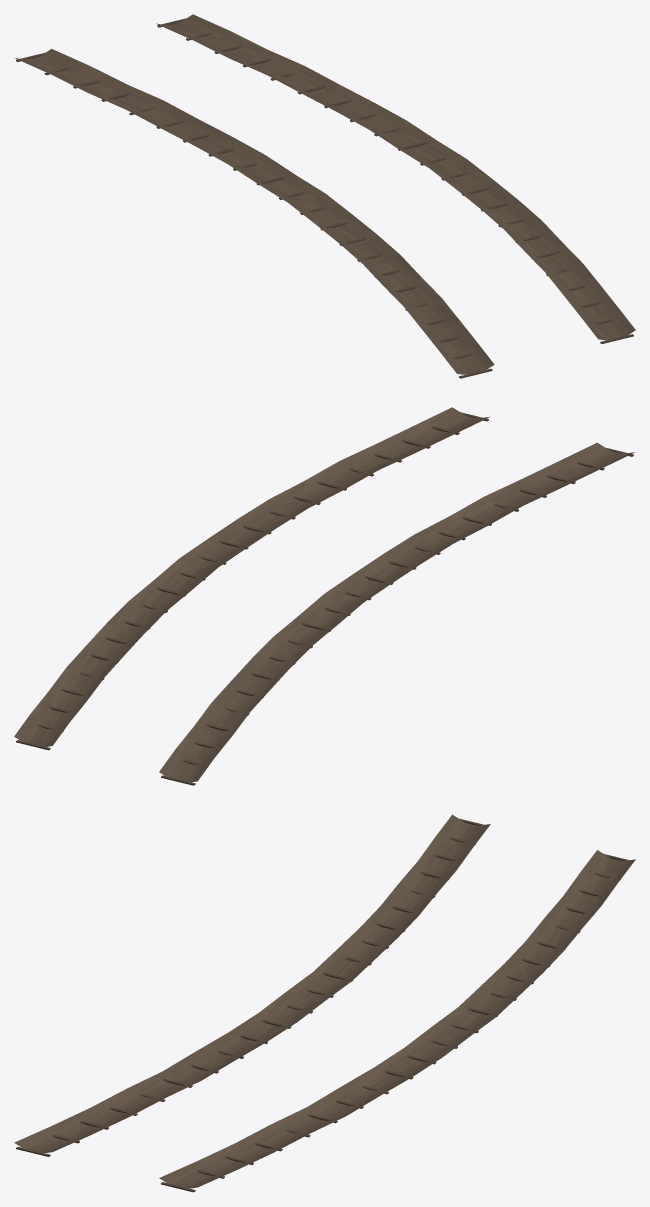
The model's file is cabin_tyre_ruts_a.glb.
3 renders of one model, top to bottom at view 1: azimuth 30°, elevation 25°; view 2: azimuth 150°, elevation 25°; view 3: azimuth 330°, elevation 25°, orthographic. The views are drawn at different scales.
Visible parts, largest first — view 1: body; view 2: body; view 3: body.
Part boxes in pixels (x1,y1,x2,y2): body: [14, 14, 635, 378]; body: [14, 407, 635, 785]; body: [14, 814, 635, 1192].
Size of the model in its own units: 2.5 by 0.0604 by 8.03.
